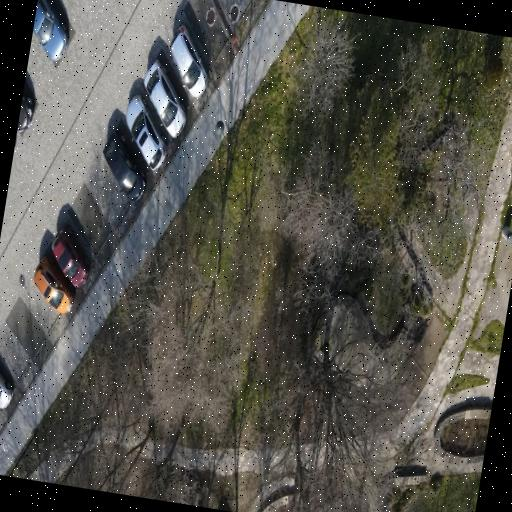car: (144, 60, 186, 137), (126, 95, 166, 169), (104, 132, 146, 202), (171, 26, 208, 97), (34, 255, 76, 313), (52, 226, 90, 286), (33, 0, 69, 60), (17, 93, 34, 131), (0, 373, 13, 408), (14, 136, 16, 154)
